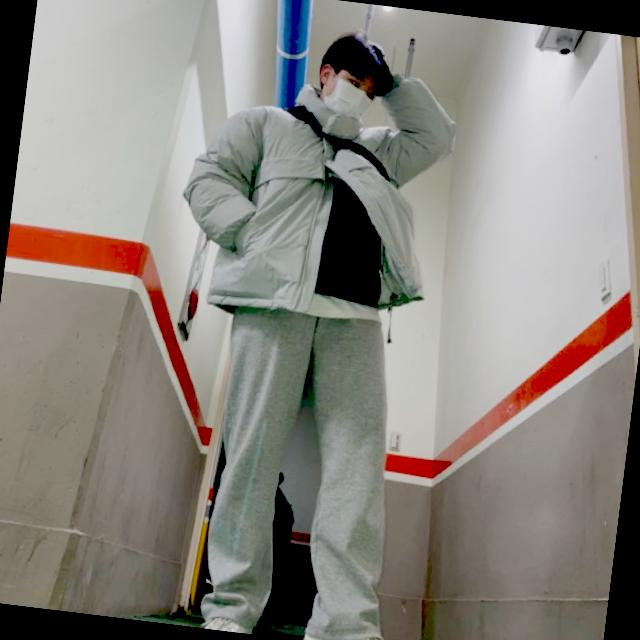padding: (172, 50, 464, 330)
trainingpants: (192, 290, 423, 640)
